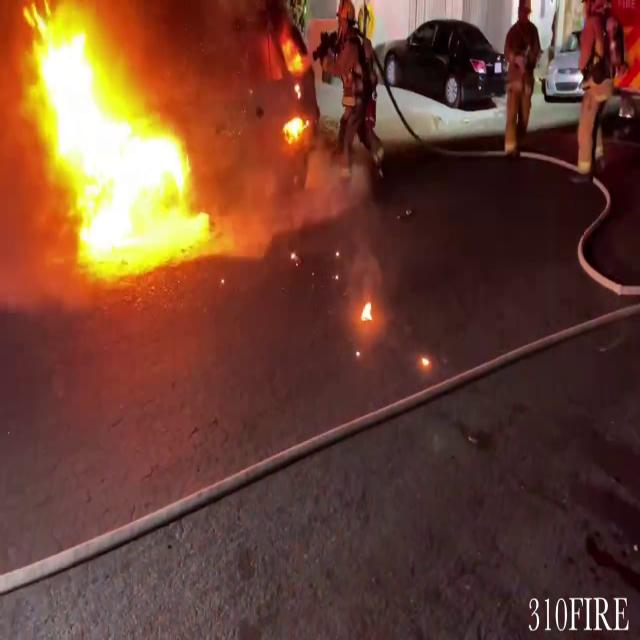Fire: (16, 2, 212, 272)
